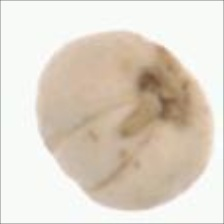L5: (51, 99, 157, 194), (117, 42, 209, 143)
L6: (33, 29, 216, 214)
